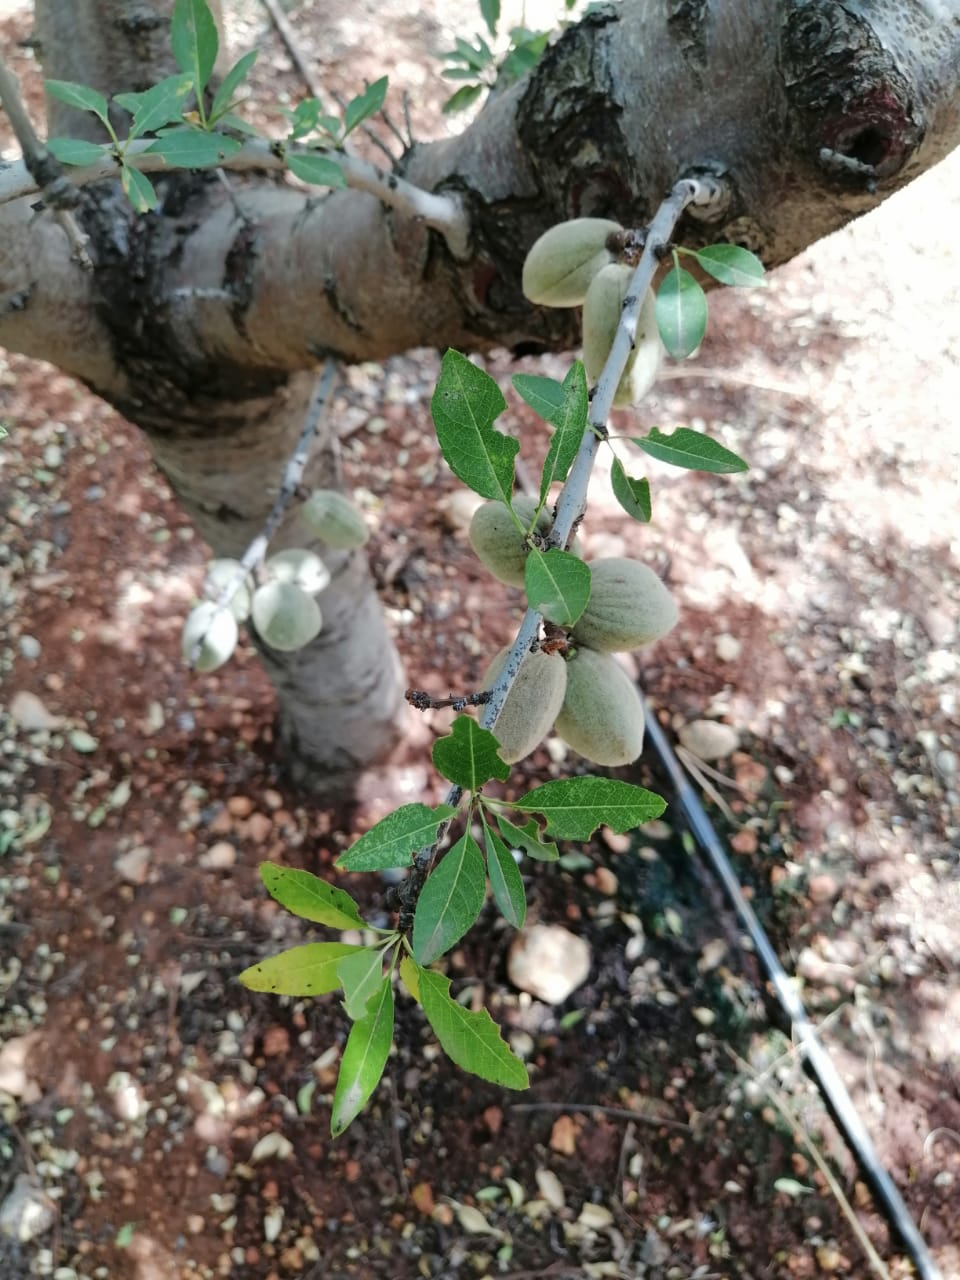othyorinques: (414, 963, 532, 1092), (432, 346, 518, 503), (514, 772, 669, 841), (333, 798, 459, 873), (255, 858, 369, 930), (633, 423, 749, 479), (430, 711, 509, 790), (330, 944, 386, 1023)
